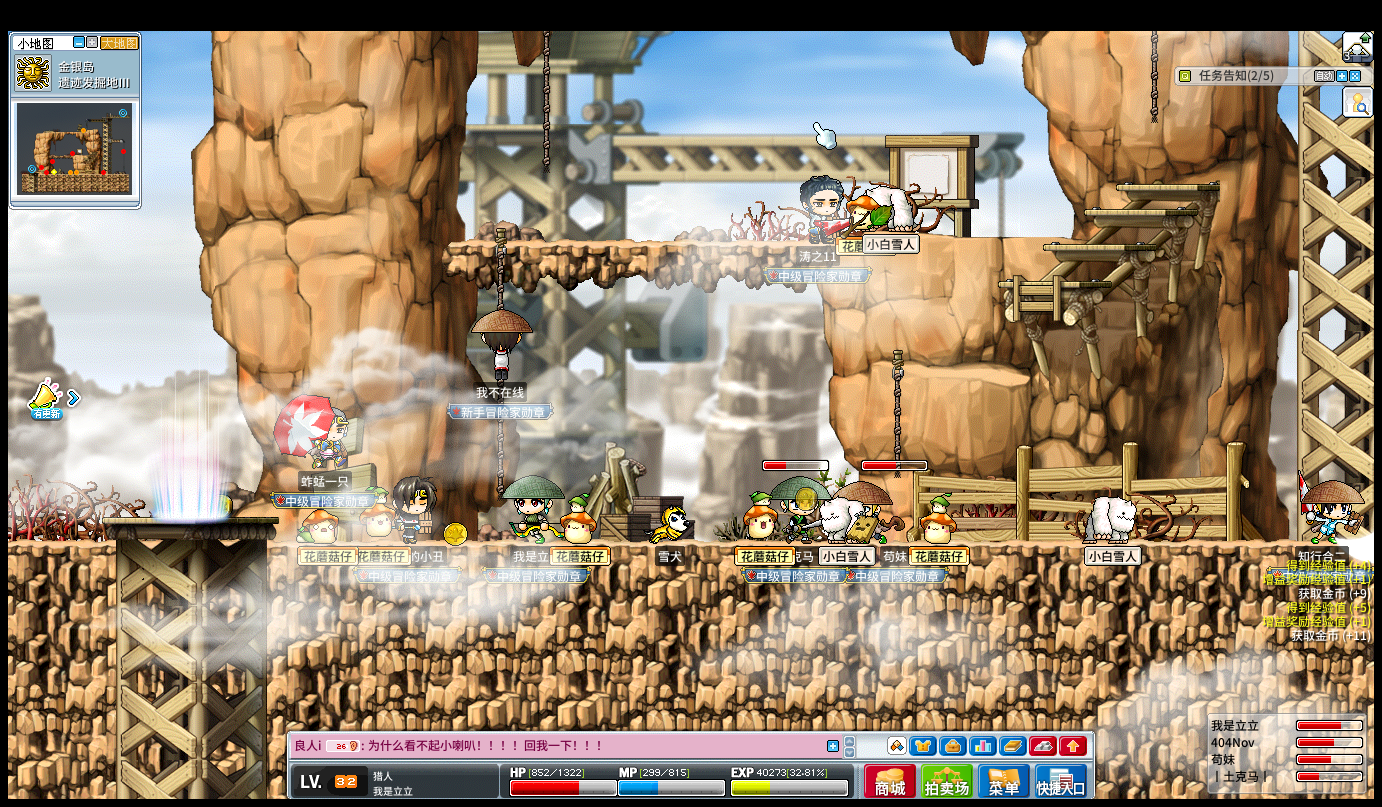floor: (445, 238, 831, 249), (924, 364, 1032, 385), (8, 538, 115, 550), (101, 518, 278, 525), (943, 232, 1083, 240), (1079, 207, 1194, 216), (995, 279, 1108, 288), (1040, 243, 1160, 251), (1116, 184, 1220, 191)
rope: (268, 535, 1374, 549), (890, 350, 904, 477), (542, 28, 551, 175), (492, 228, 506, 309), (495, 419, 506, 501), (1148, 30, 1157, 120)
